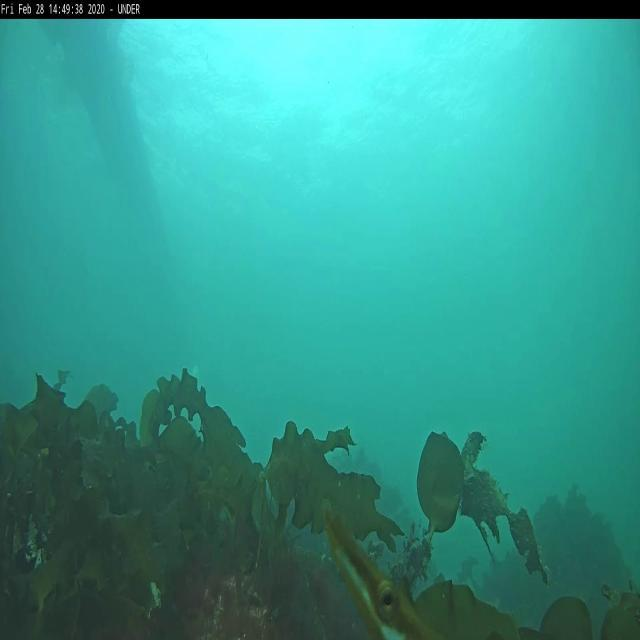fish: (324, 502, 436, 635)
